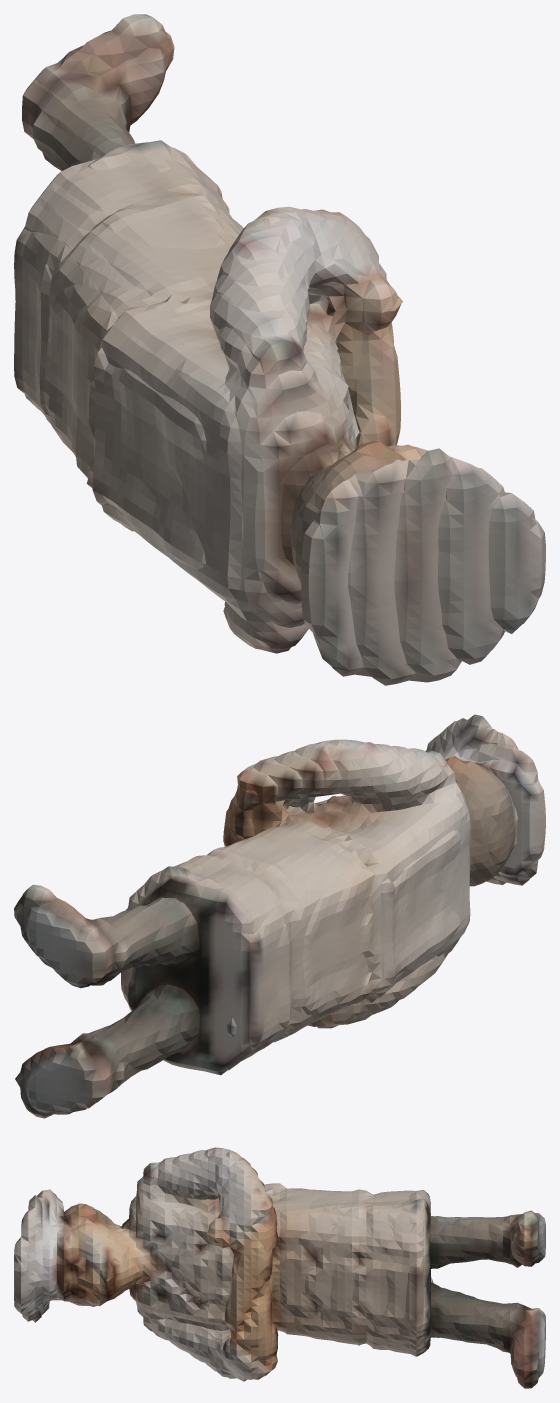
The picture shows the model from 3 angles, top to bottom: view 1: azimuth 30°, elevation 25°; view 2: azimuth 150°, elevation 25°; view 3: azimuth 270°, elevation 25°; orthographic projection. The views are drawn at different scales.
Visible parts, largest first — view 1: world; view 2: world; view 3: world.
Boxes of the visible parts, x1,y1,x2,y2 form: world: (14,14,545,685); world: (14,714,545,1118); world: (14,1147,545,1388).
Bounding box in the file's own units: 0.3669 × 0.467 × 1.01.
